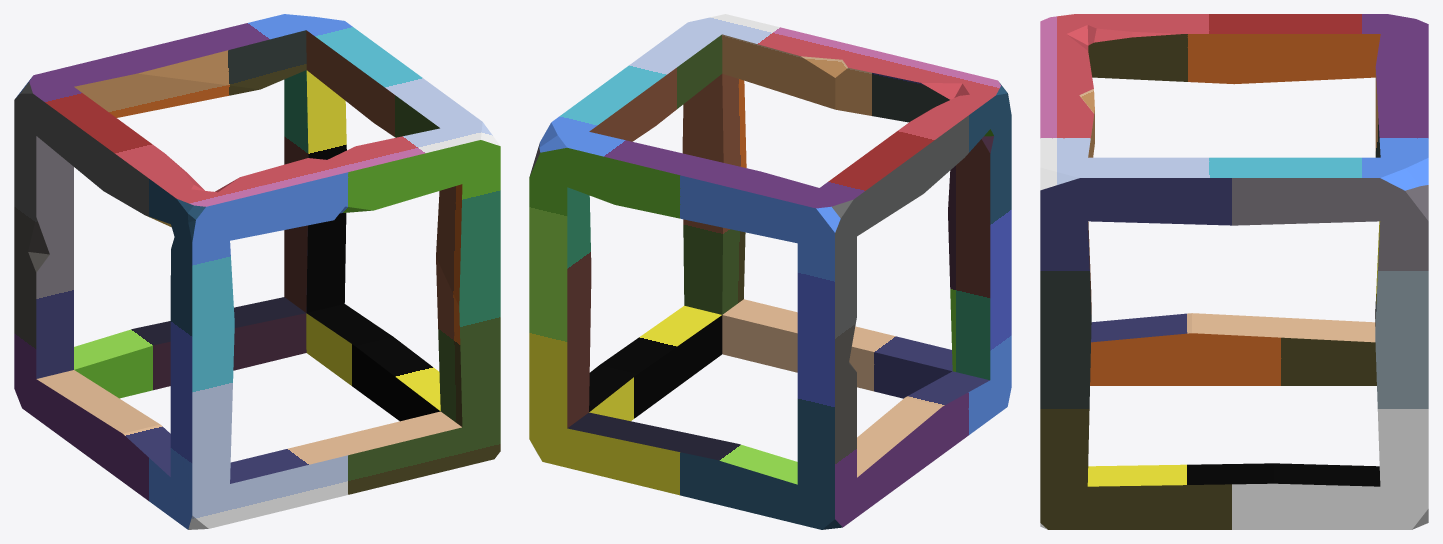
The model's file is Glass_Cube_Frame.glb.
The picture shows the model from 3 angles, left to right: view 1: azimuth 30°, elevation 25°; view 2: azimuth 150°, elevation 25°; view 3: azimuth 270°, elevation 25°; orthographic projection. The views are drawn at different scales.
Parts seen in each view (by area): view 1: Glass_Cube_Frame.001; view 2: Glass_Cube_Frame.001; view 3: Glass_Cube_Frame.001.
Boxes of the visible parts, <box> form: Glass_Cube_Frame.001: <box>14,14,500,529</box>; Glass_Cube_Frame.001: <box>529,14,1011,529</box>; Glass_Cube_Frame.001: <box>1040,14,1428,529</box>.
Bounding box in the file's own units: 0.5841 × 0.5841 × 0.5841.
1 material, 1 textured.
